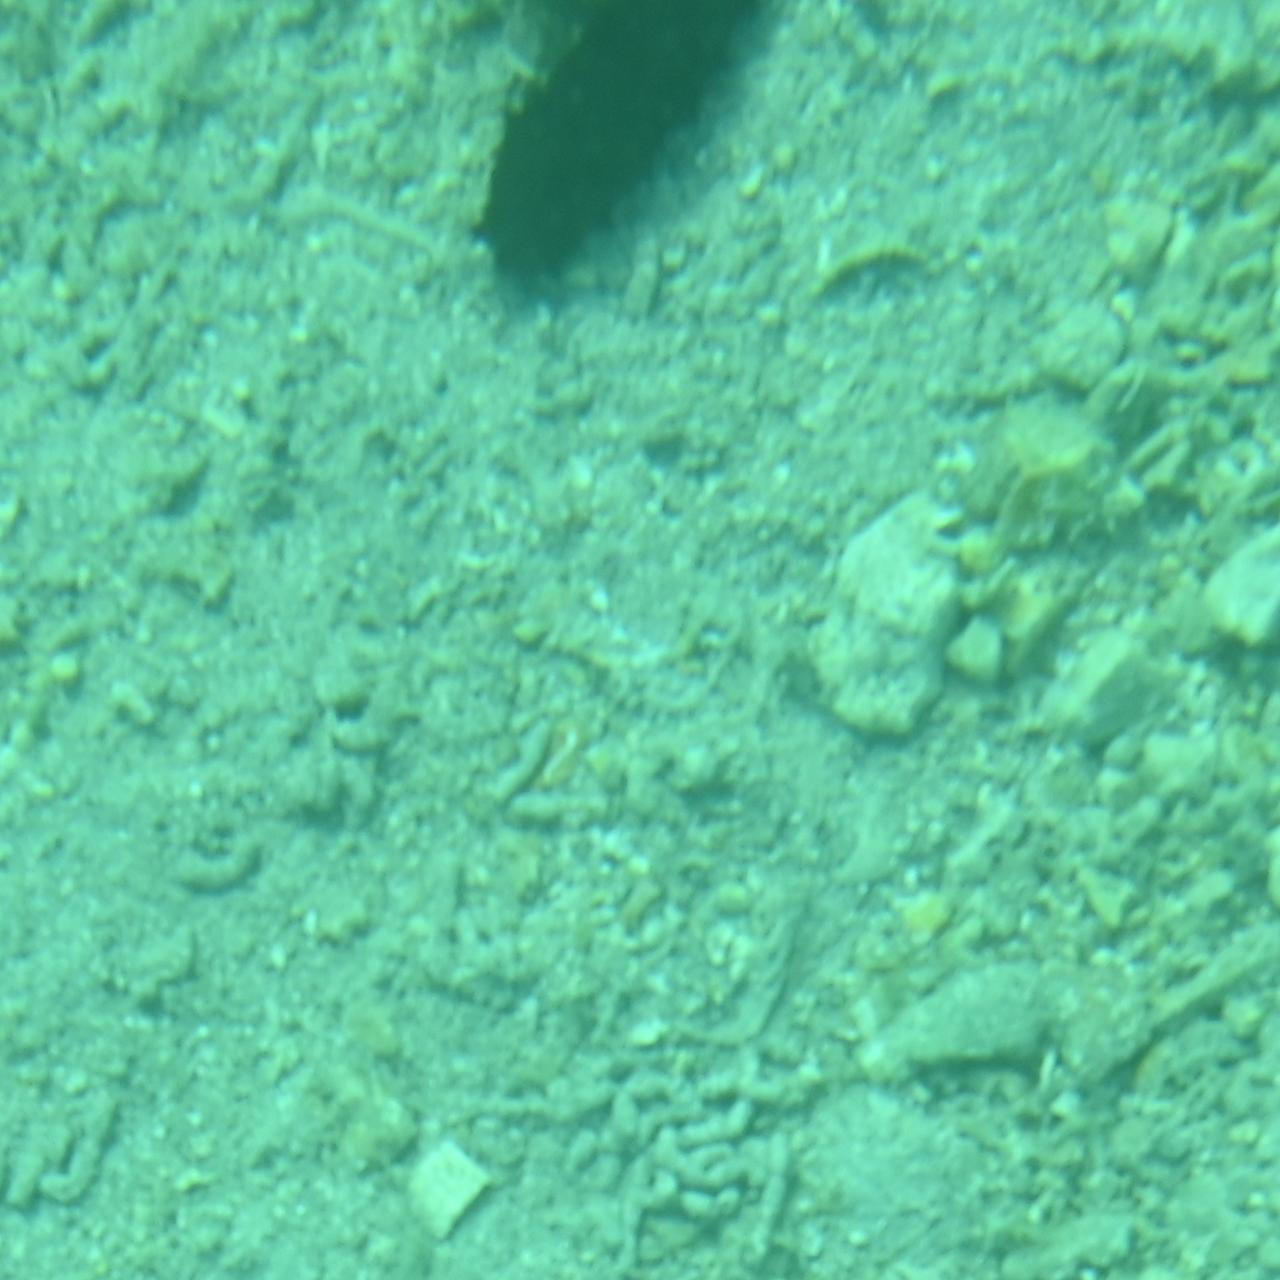Holothuria tubulosa: (466, 2, 814, 306)
